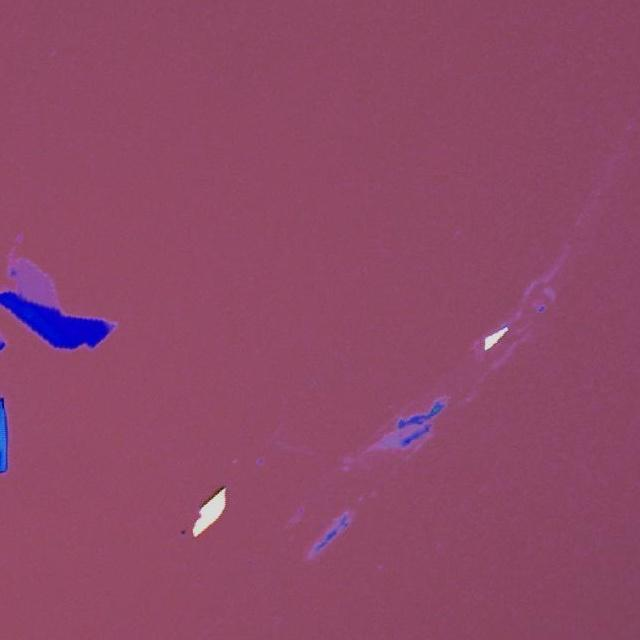monolayer-eWW4: (16, 258, 64, 310)
